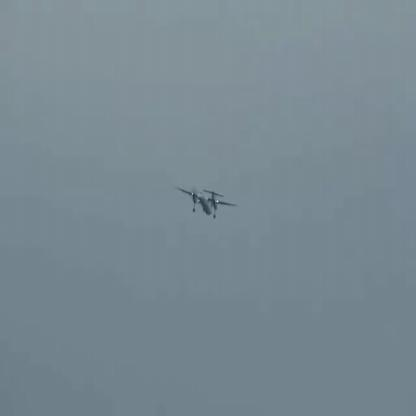CIV_Plane: (176, 187, 238, 218)
